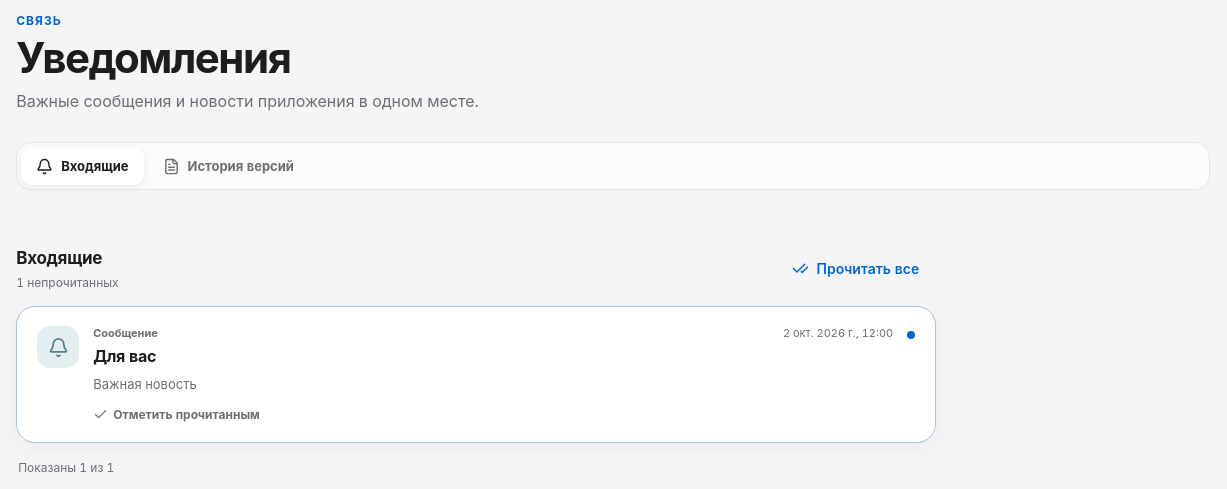
Test case: notifications page › shows an inbox item and marks it read
Check: the text "Важная новость" is shown, box [93, 376, 197, 392]
Click the button "Отметить прочитанным" at (176, 415), box [93, 406, 260, 424]
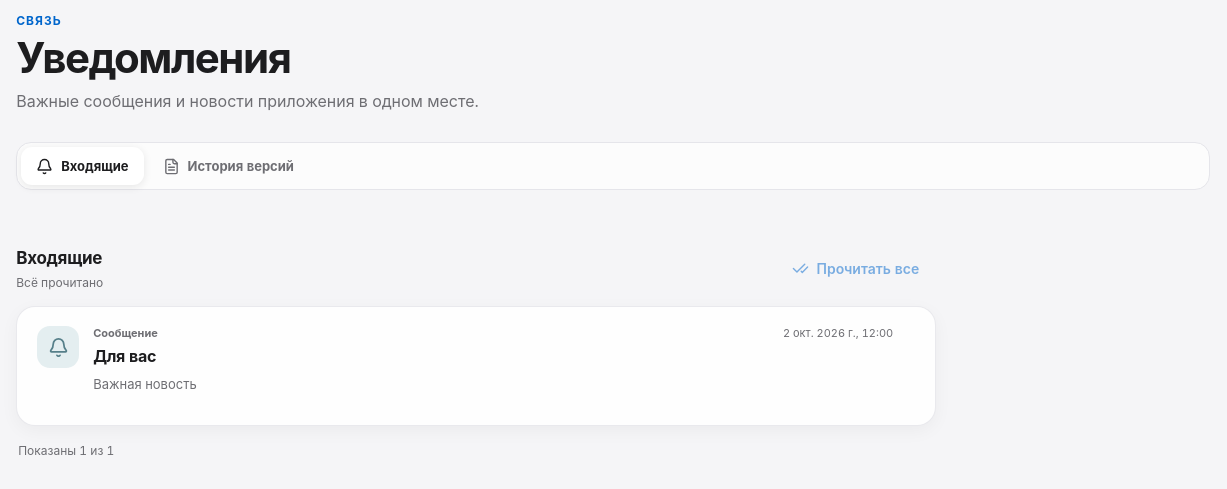
Check: the button "Отметить прочитанным" is gone
Check: the text "Всё прочитано" is shown, box [16, 274, 103, 292]
